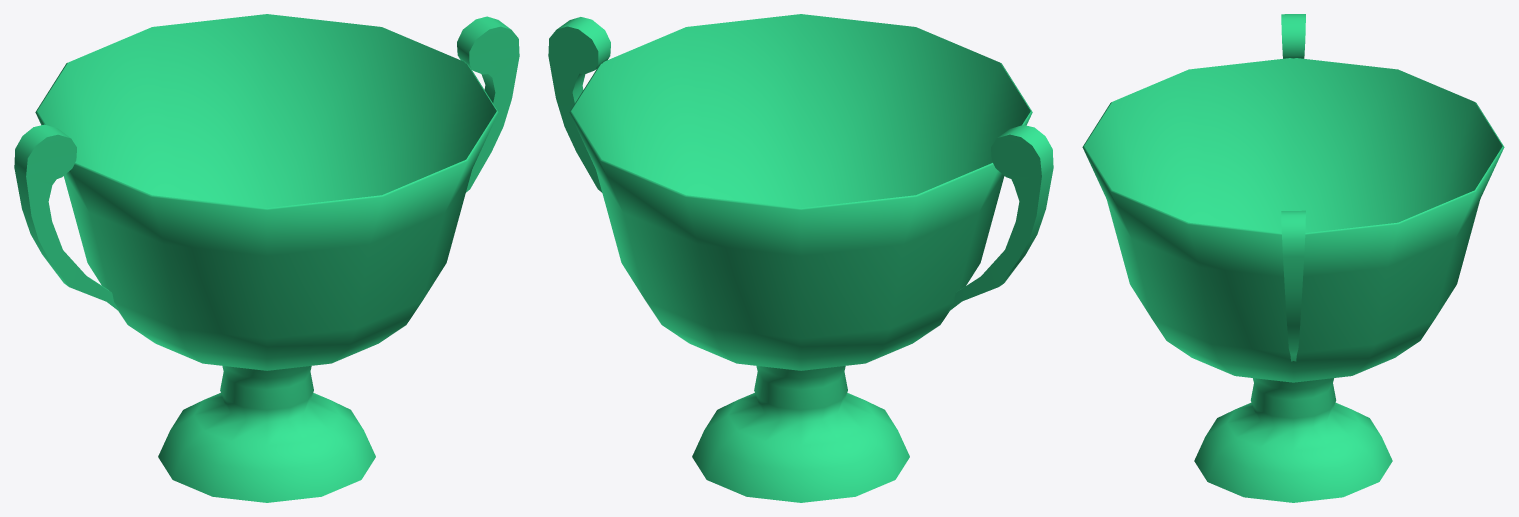
Rendered from copa_Generica_4.FBX.
3 views of the same model, side by side, from view 1: azimuth 30°, elevation 25°; view 2: azimuth 150°, elevation 25°; view 3: azimuth 270°, elevation 25° (orthographic). The views are drawn at different scales.
Parts seen in each view (by area): view 1: copa_Generica_4; view 2: copa_Generica_4; view 3: copa_Generica_4.
Boxes of the visible parts, x1,y1,x2,y2 form: copa_Generica_4: (14, 14, 519, 502); copa_Generica_4: (548, 14, 1053, 502); copa_Generica_4: (1082, 14, 1504, 502).
Size of the model in its own units: 104 by 76.38 by 84.4.
